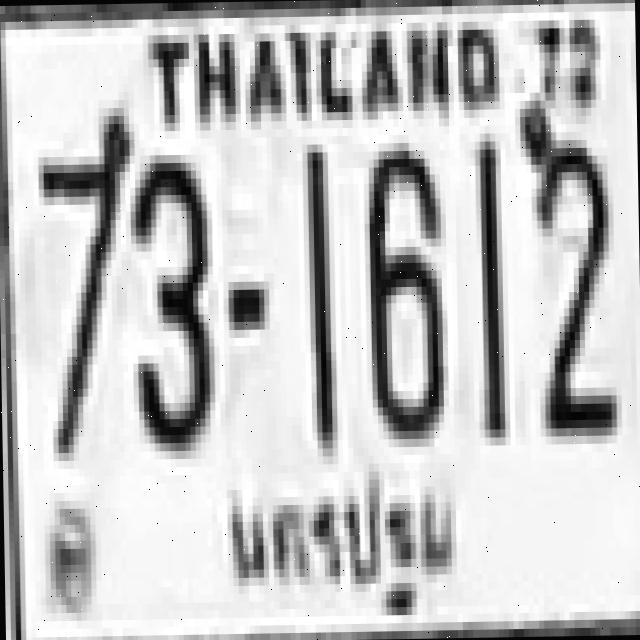1: (302, 144, 332, 448), (472, 137, 502, 441)
2: (530, 135, 612, 432)
3: (129, 154, 210, 443)
6: (363, 142, 439, 431)
7: (35, 111, 132, 449)
NakhonPathom: (208, 457, 470, 628)
